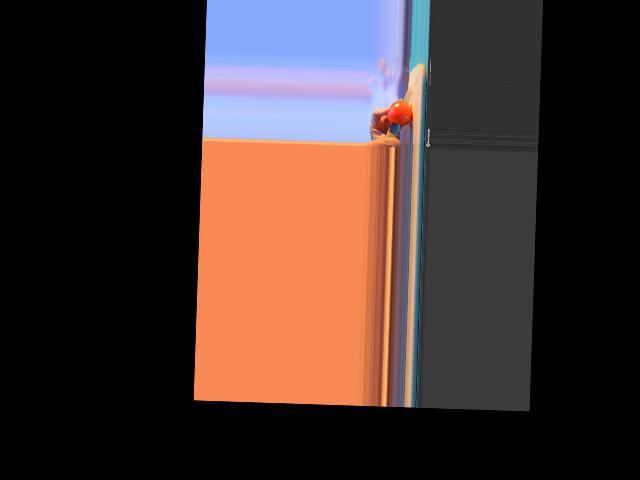tomato: (387, 99, 413, 126)
